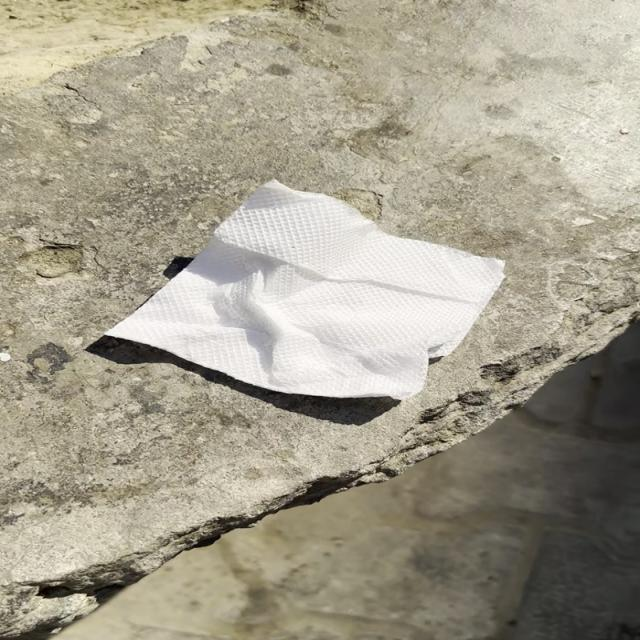tissue: (93, 172, 510, 408)
